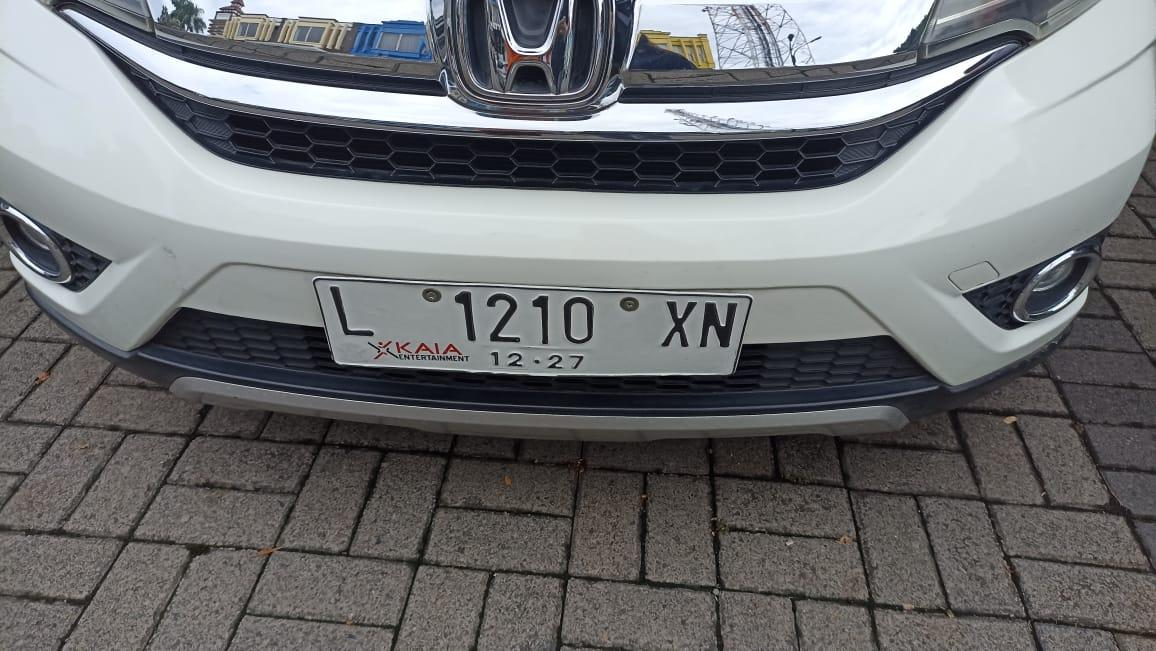plat: (314, 278, 752, 377)
